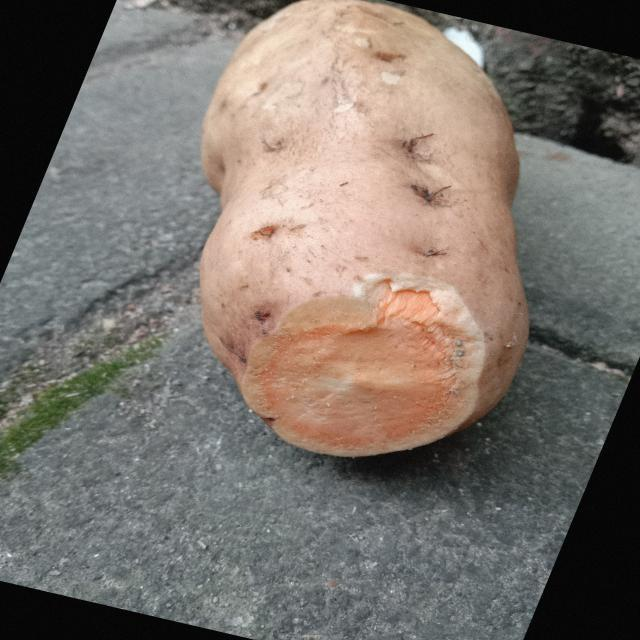Healthy Sweet Potato: (242, 274, 485, 456)
